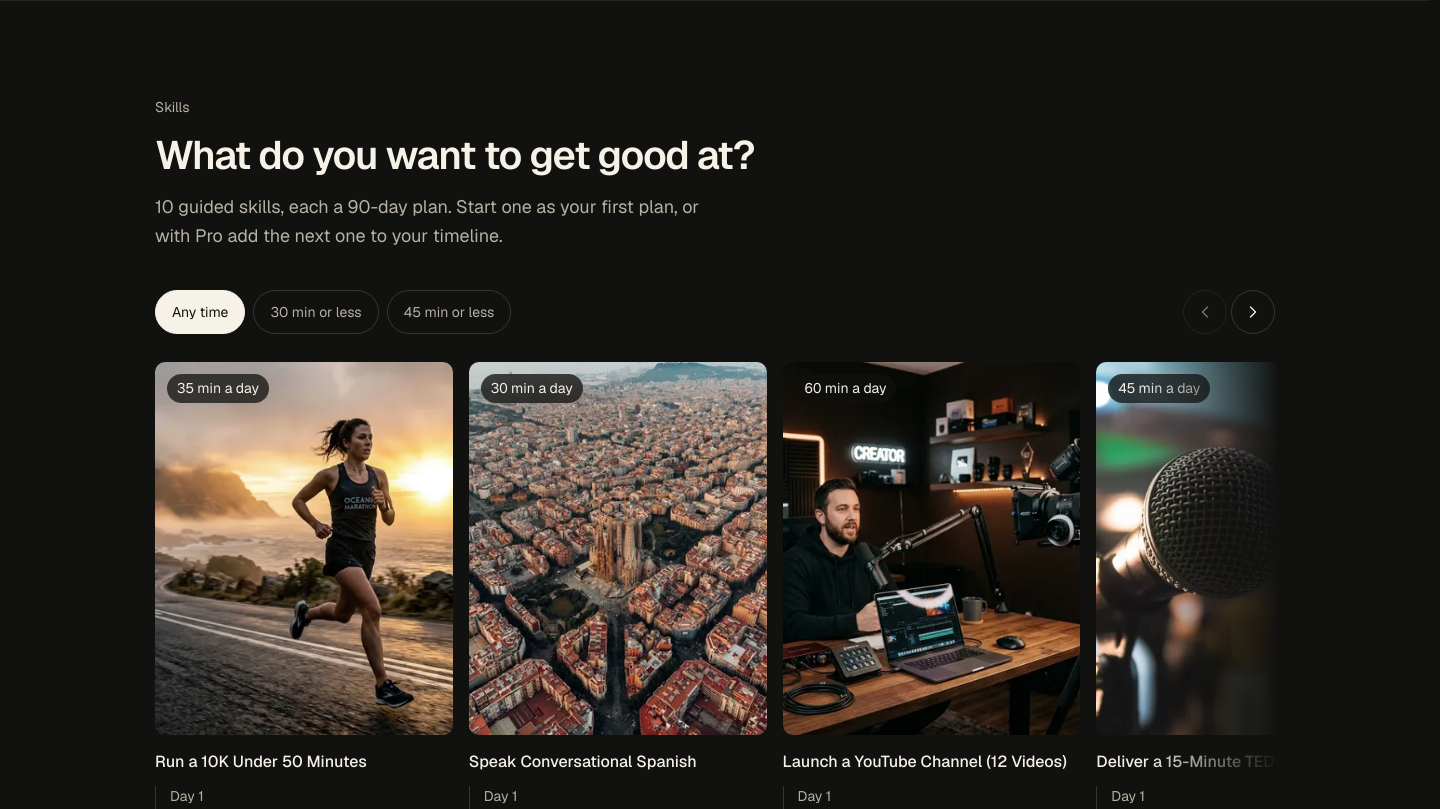
landing Pathways › filters the rail by daily time and can show every goal again
The image size is (1440, 809).
Later steps or results of the test are not shown.
What coordinates should you click on to do the following:
click the button "30 min or less"
I would click on:
 (316, 312)
Its box is [254,290,379,334].
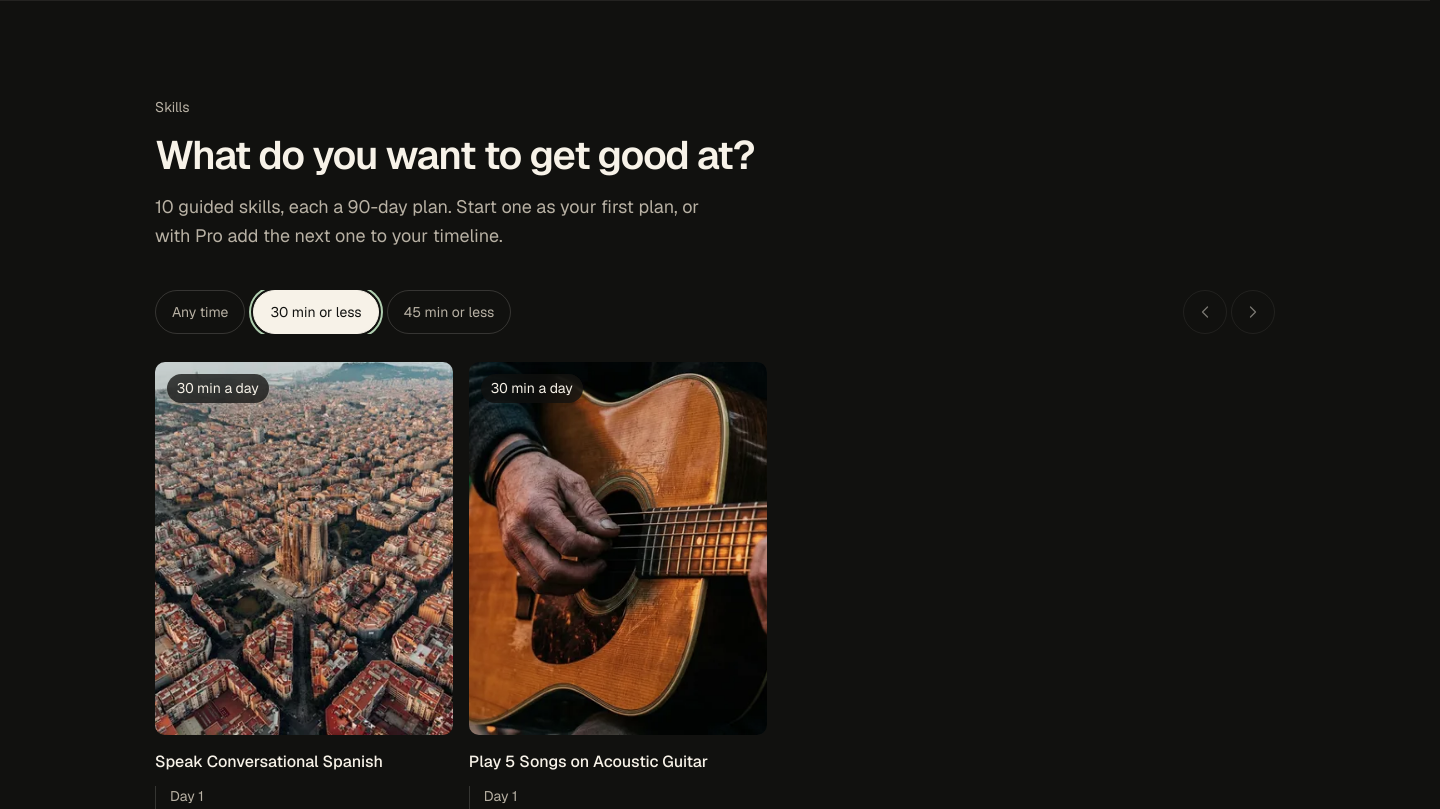
Expected: the button "30 min or less" is pressed, [254,290,379,334]
